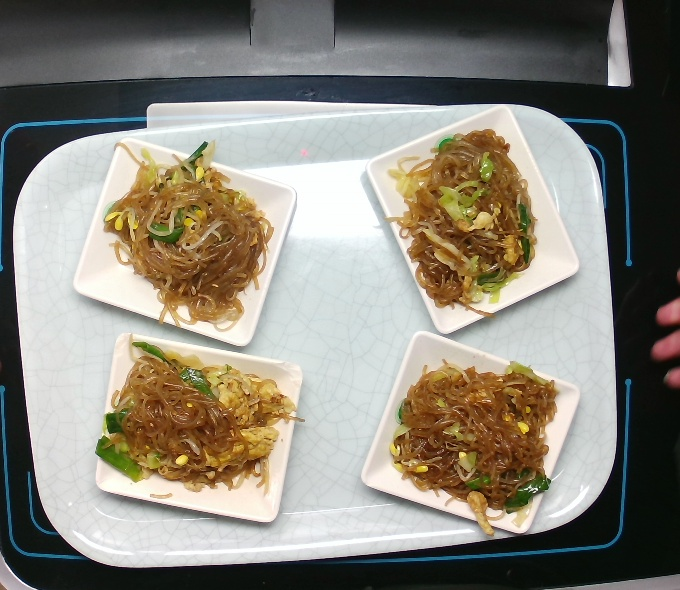wcq-FenSiChaoDan: (101, 132, 279, 341), (92, 340, 303, 509), (376, 350, 561, 535), (386, 122, 549, 330)
